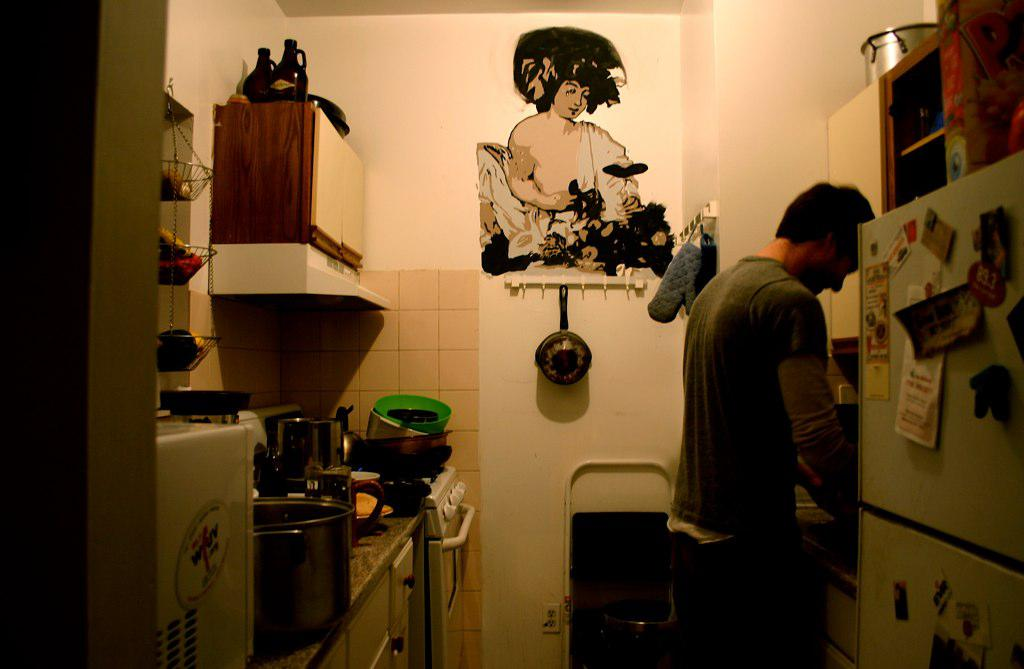Cabinetry: (226, 450, 477, 668), (869, 0, 965, 291), (209, 98, 364, 263), (798, 493, 863, 666)
